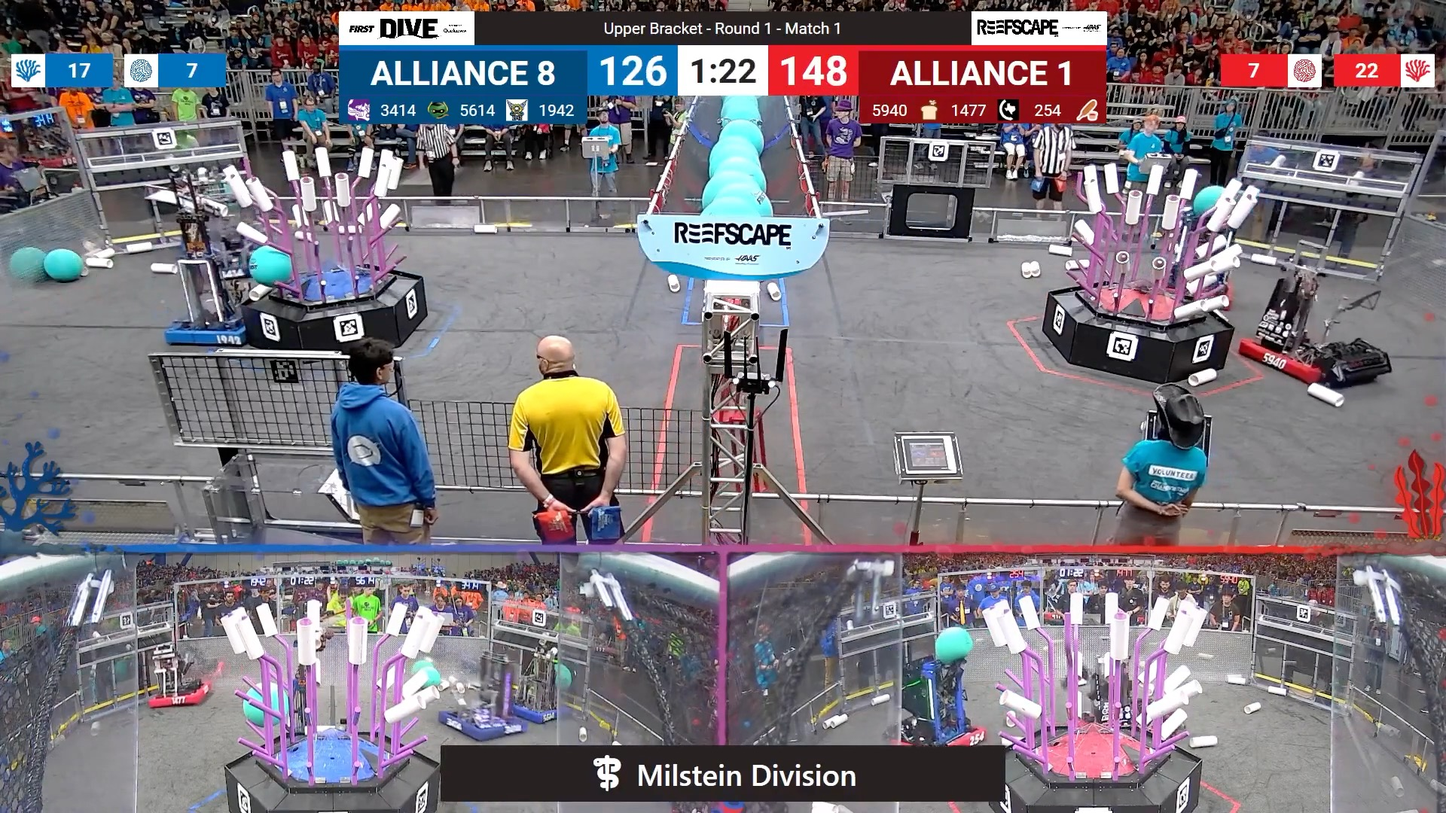bumpers: (1226, 327, 1380, 390), (162, 302, 253, 349), (435, 705, 535, 744), (882, 710, 987, 746), (187, 249, 283, 285), (140, 682, 219, 714), (504, 698, 570, 726)
